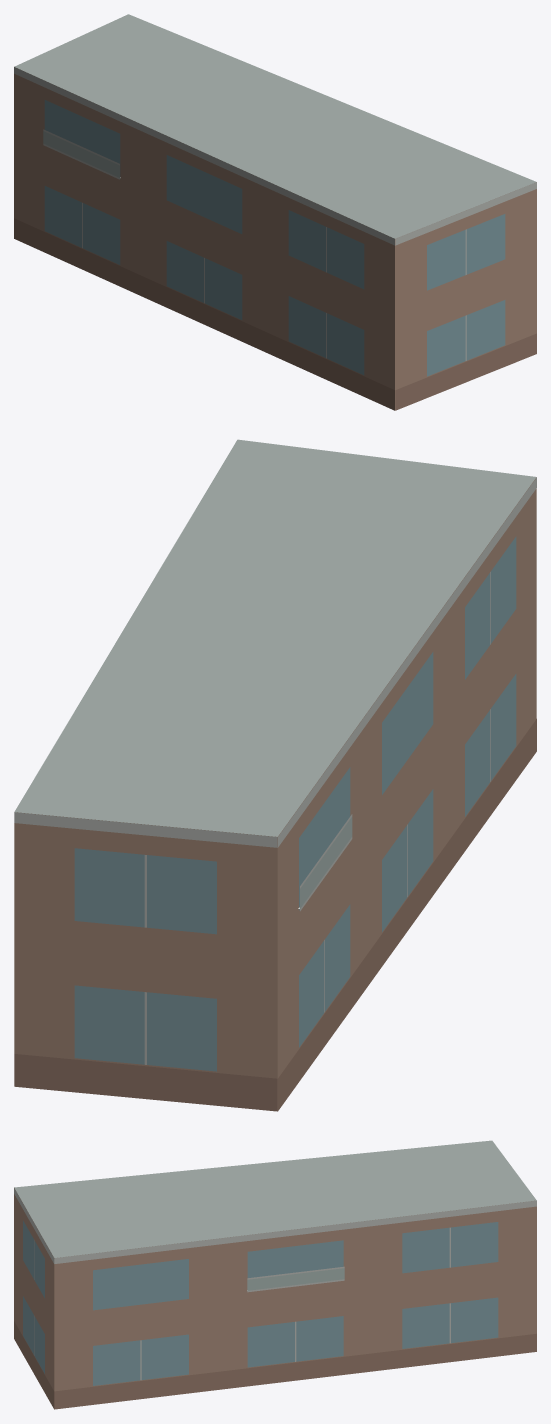
Rendered from survey-upis-32710410.glb.
3 views of the same model, one above another, from view 1: azimuth 30°, elevation 25°; view 2: azimuth 150°, elevation 25°; view 3: azimuth 270°, elevation 25° (orthographic). The views are drawn at different scales.
Parts seen in each view (by area): view 1: survey-upis-32710410.tmp; view 2: survey-upis-32710410.tmp; view 3: survey-upis-32710410.tmp.
Boxes of the visible parts, x1,y1,x2,y2 form: survey-upis-32710410.tmp: (14,14,536,410); survey-upis-32710410.tmp: (14,439,536,1111); survey-upis-32710410.tmp: (14,1140,536,1409).
Size of the model in its own units: 10.18 by 6.1 by 19.11.
